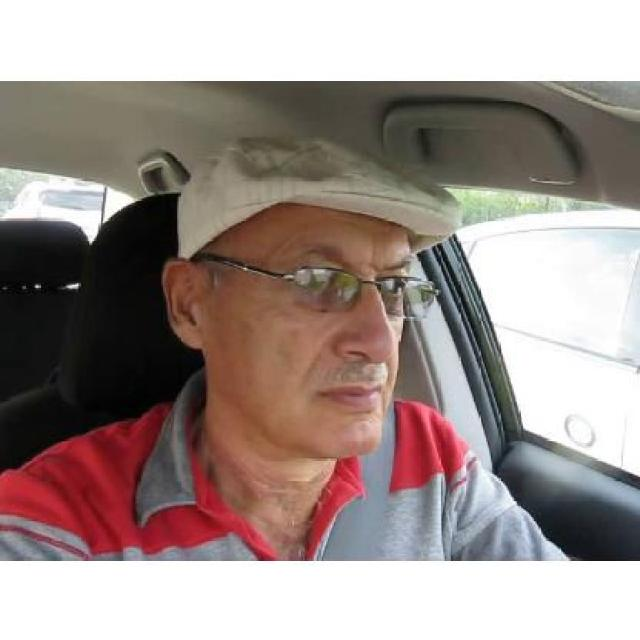attentif: (164, 136, 439, 458)
